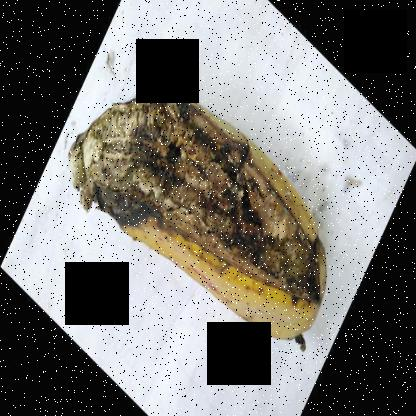rotten: (70, 67, 352, 333)
